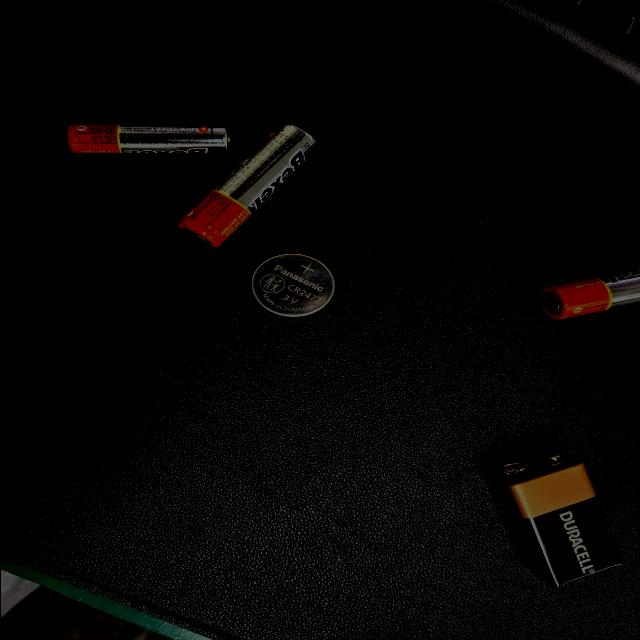9V: (387, 12, 570, 116)
AA: (0, 241, 118, 346), (139, 0, 214, 77)
COIN: (124, 229, 208, 295)
